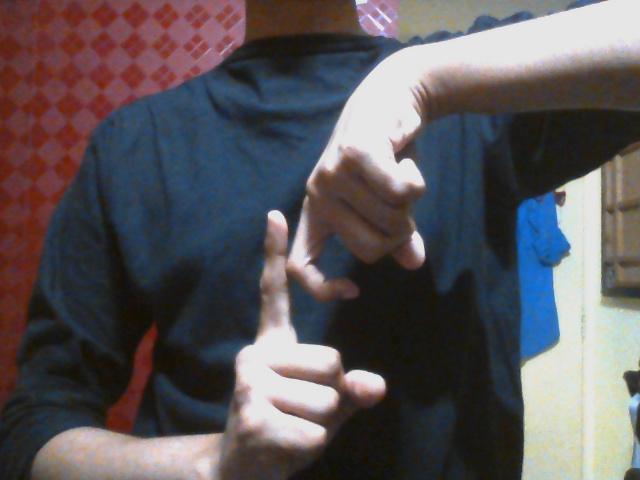K: (227, 157, 426, 473)
